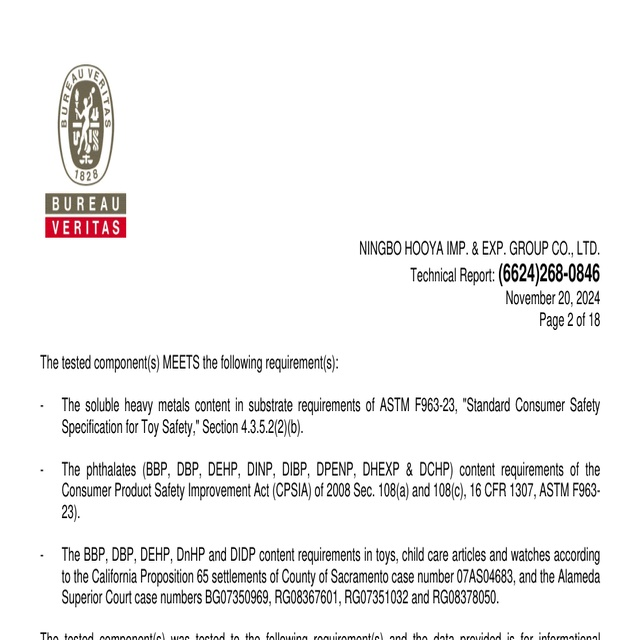bureau_veritas: (40, 60, 131, 244)
